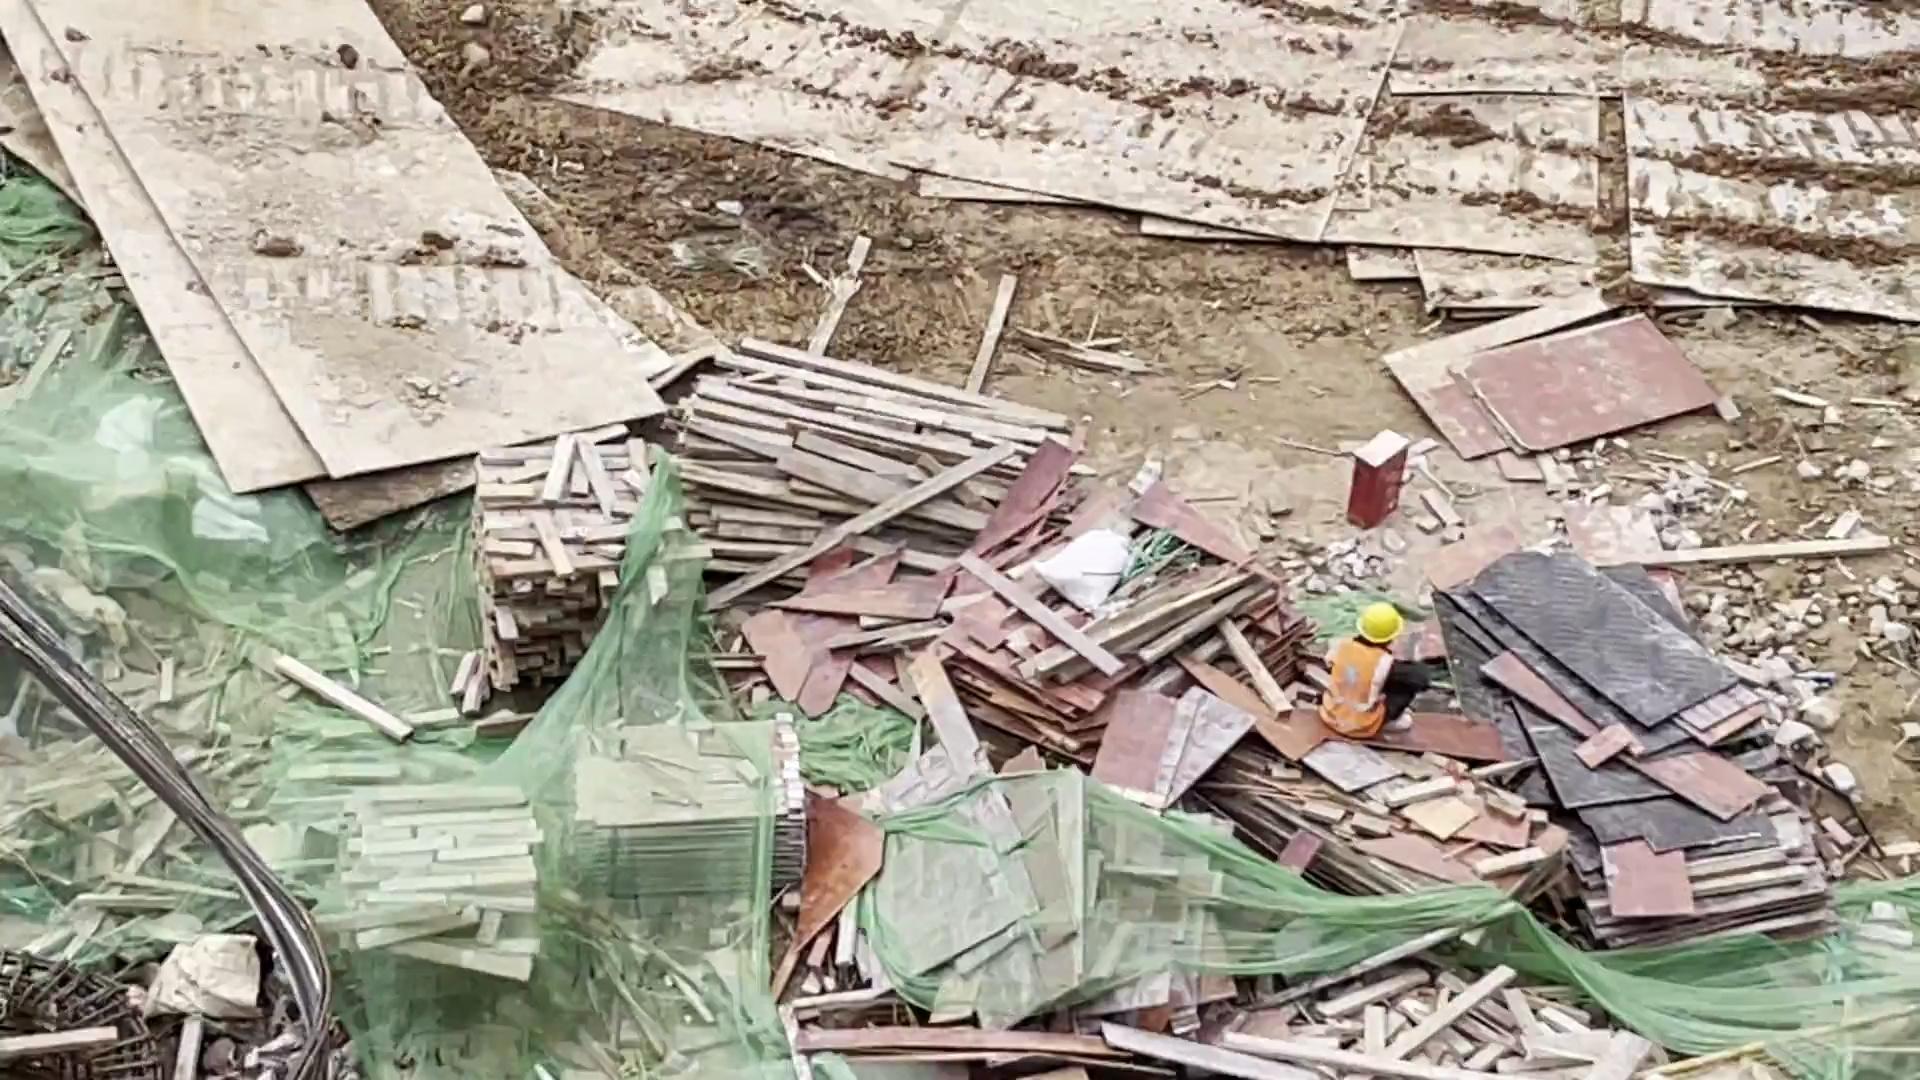helmet: (1353, 605, 1402, 640)
person: (1311, 604, 1430, 743)
vest: (1323, 638, 1386, 737)
wood: (480, 333, 1051, 652), (310, 713, 814, 971)
